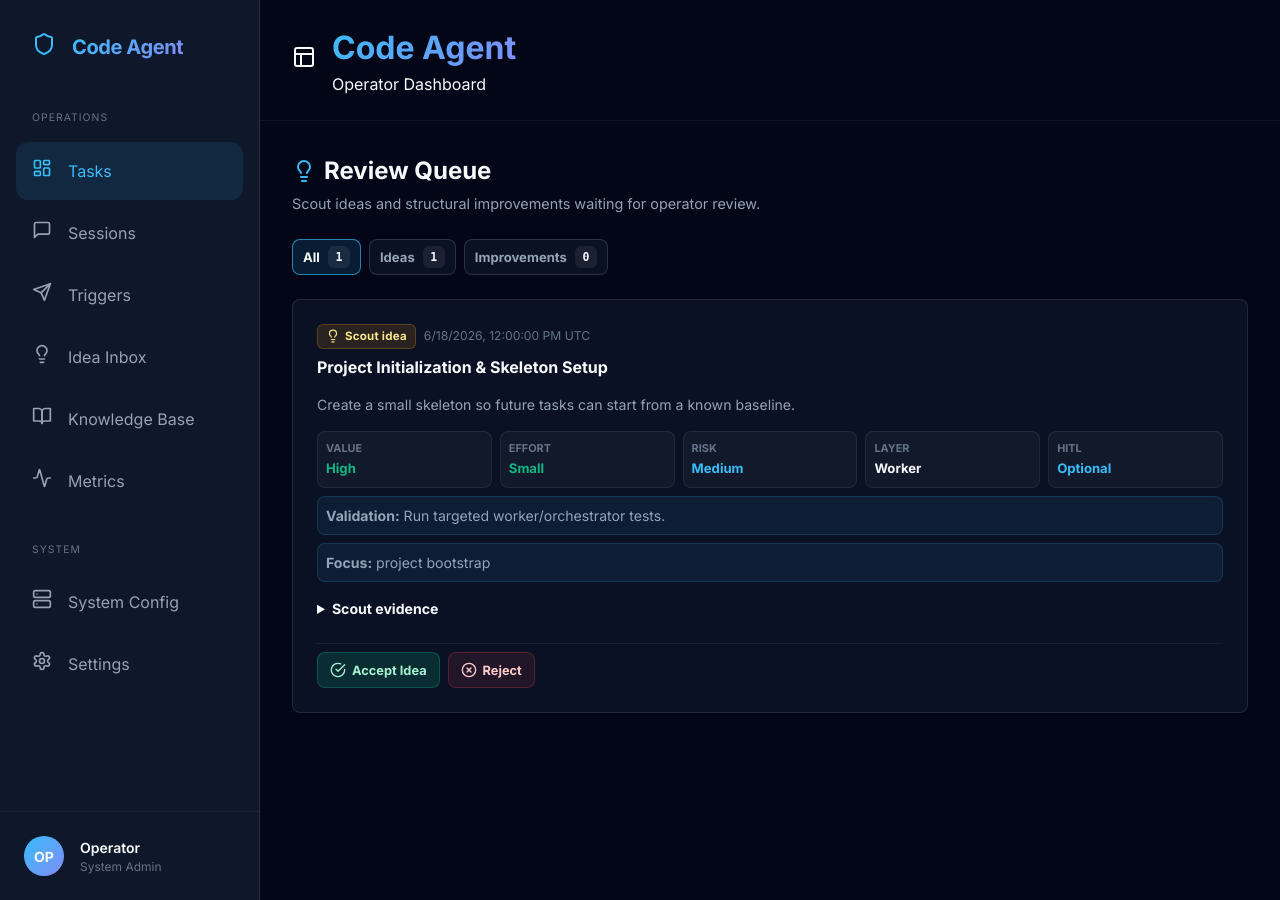
Test: IdeaInboxPage › renders structured scout metadata as a reviewable proposal
Check: the text "Validation: Run targeted worker/orchestrator tests." is shown, box [317,496,1223,535]
Check: the text "Focus:" is shown, box [326,554,372,571]
Click the heading "Scout evidence" at (385, 608), box [332,600,438,617]
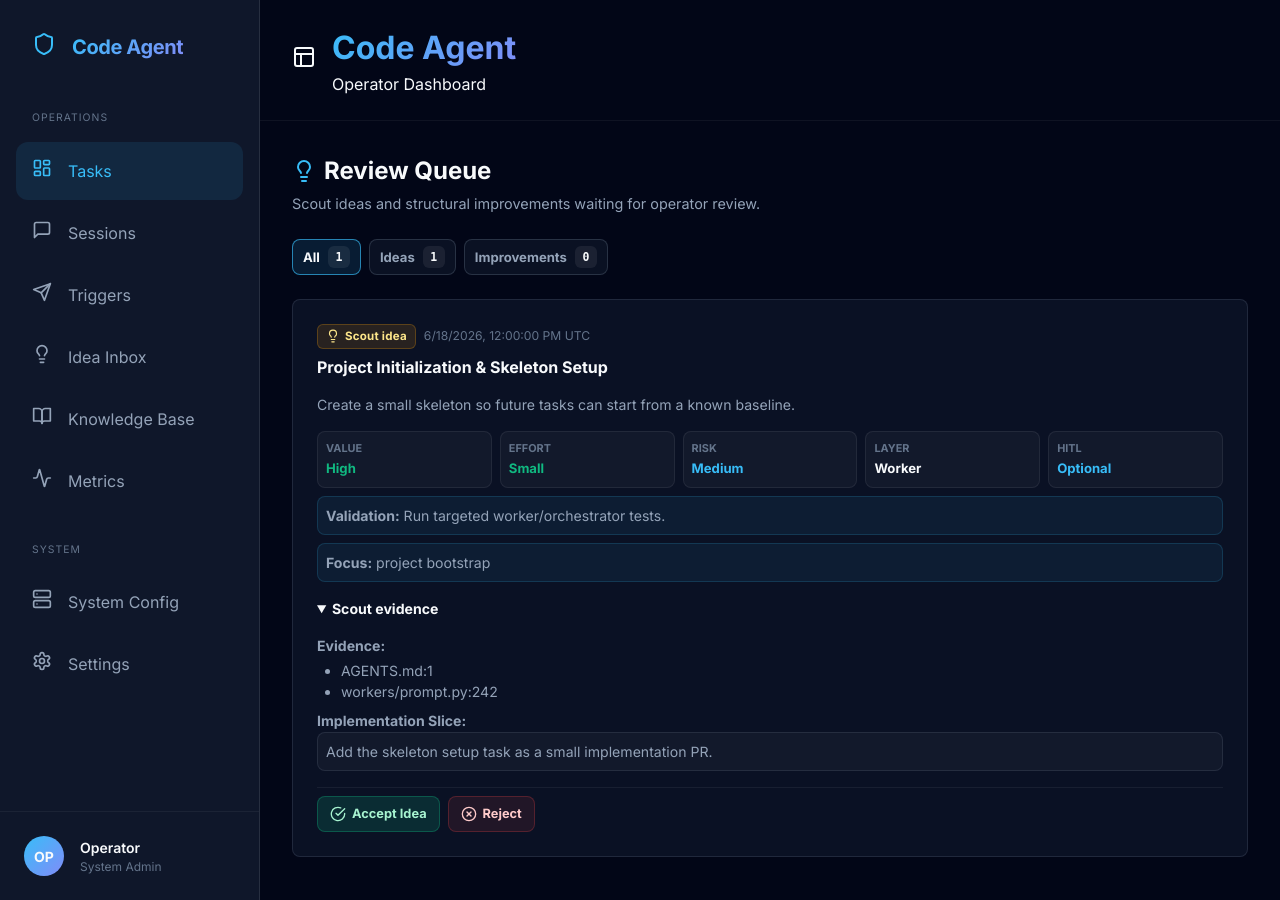
Check: the list item "AGENTS.md:1" is shown, box [341,662,433,679]
Check: the list item "workers/prompt.py:242" is shown, box [341,683,498,700]
